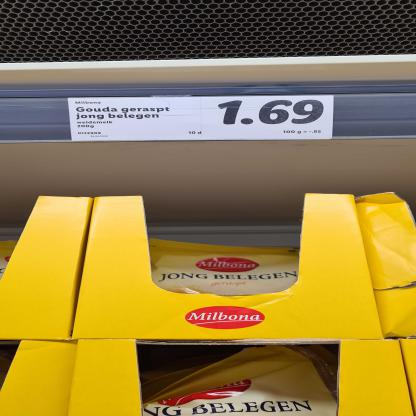prtg: (67, 96, 335, 142)
